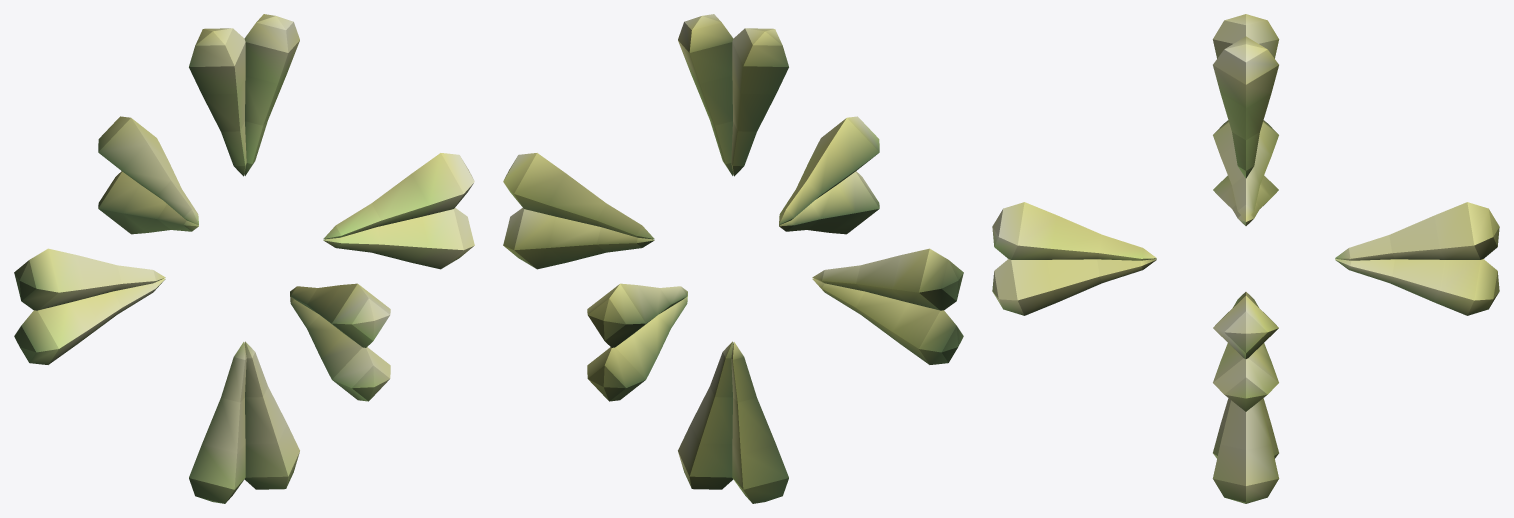
The model's file is shiningstoneblue.dae.
3 renders of one model, left to right at view 1: azimuth 30°, elevation 25°; view 2: azimuth 150°, elevation 25°; view 3: azimuth 270°, elevation 25°, orthographic. The views are drawn at different scales.
Visible parts, largest first — view 1: m0; view 2: m0; view 3: m0.
Boxes of the visible parts, bbox=[...] form: m0: bbox=[14, 14, 474, 503]; m0: bbox=[503, 14, 963, 503]; m0: bbox=[992, 14, 1499, 503].
Bounding box in the file's own units: 1389 × 1389 × 1389.
